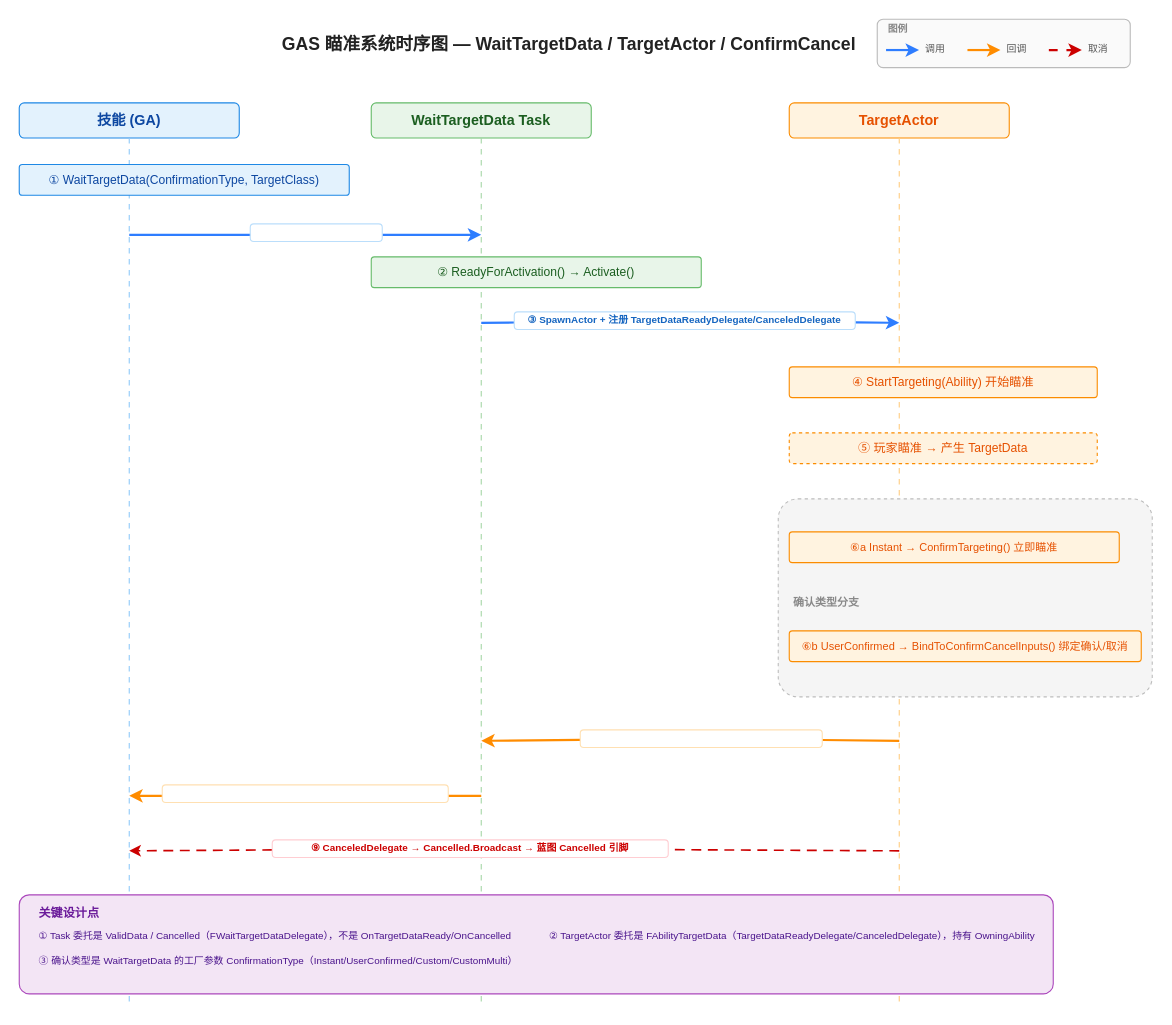
This 1172x1025 diagram has some shape labels left out. Each missing label, with the centre of its shape:
"⑦ TargetDataReadyDelegate 广播" belongs at [700,738].
"⑧ ValidData.Broadcast → 蓝图 ValidData 引脚" belongs at [304,793].
"创建 Task" belongs at [315,232].
